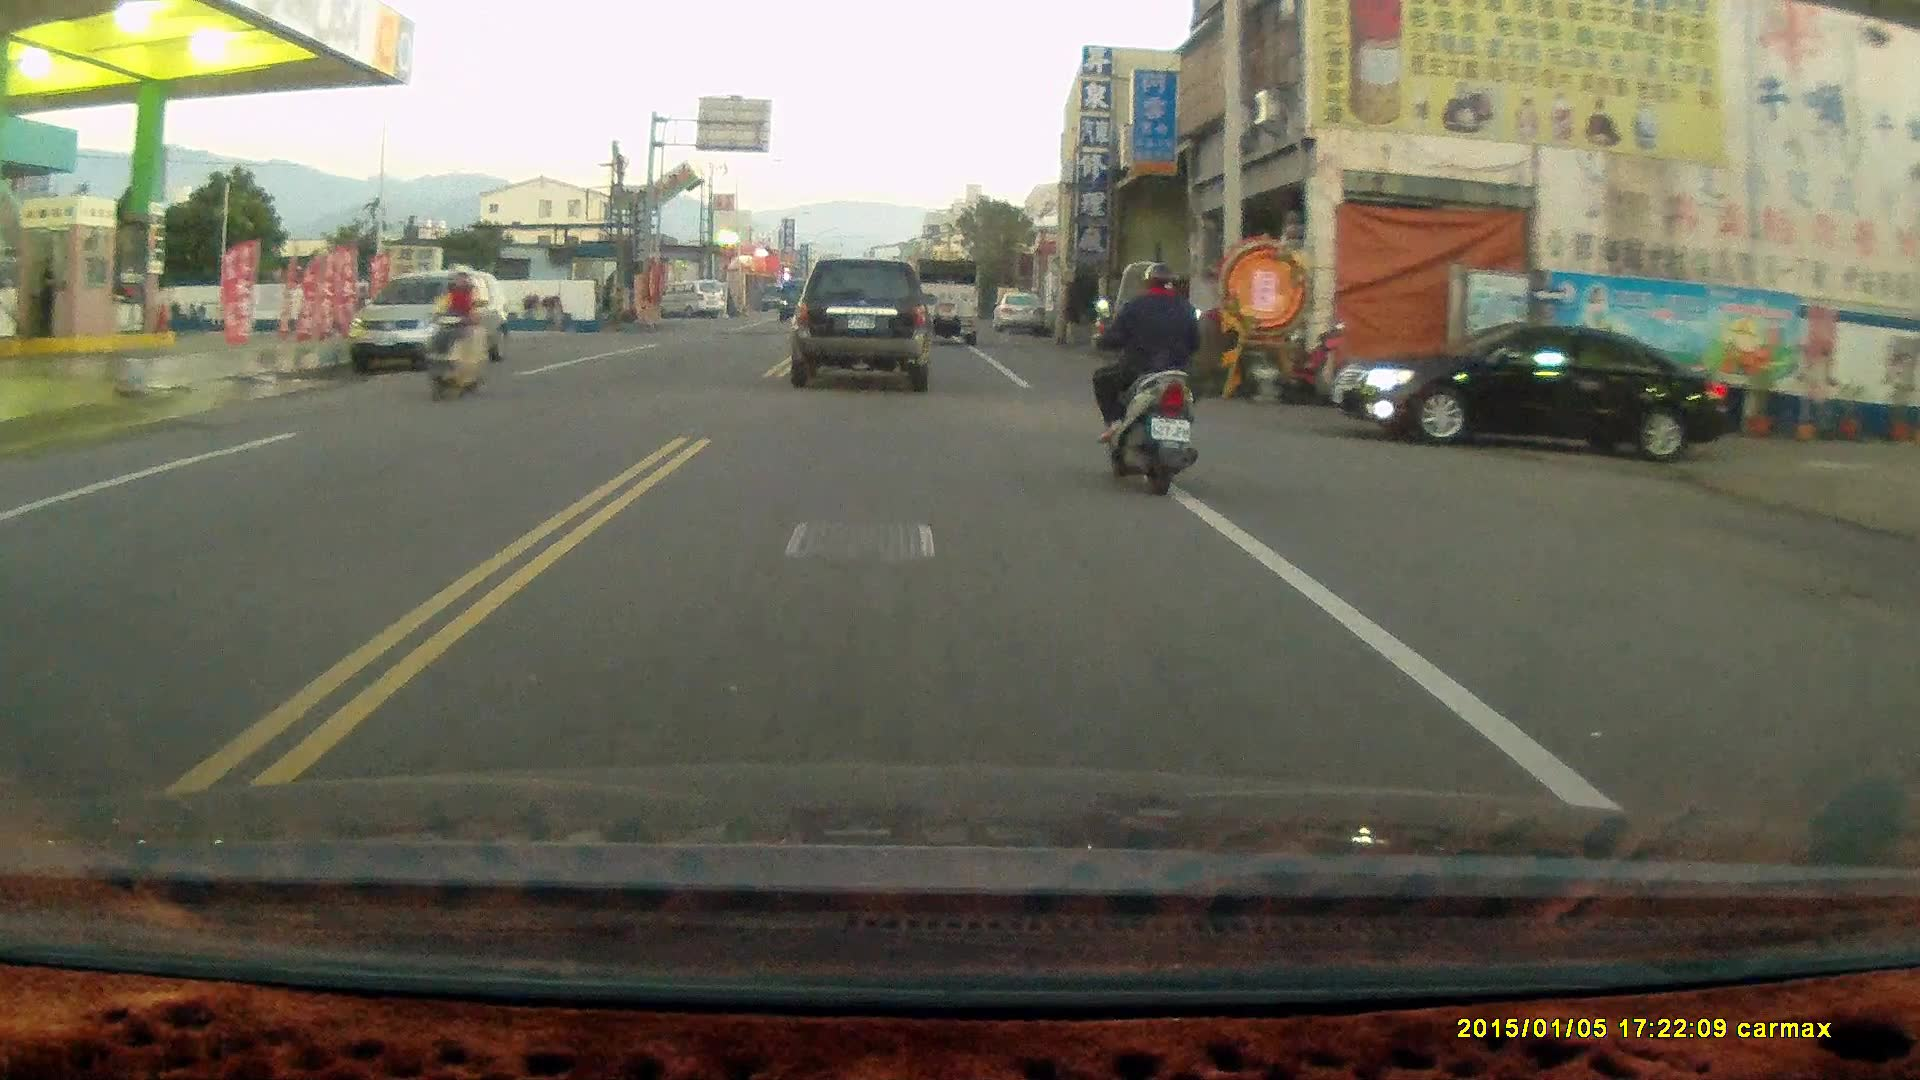rider: (1088, 259, 1198, 497), (423, 264, 489, 398)
vehicle: (1335, 326, 1743, 466), (790, 254, 938, 391), (343, 268, 511, 377), (898, 256, 980, 347), (992, 292, 1046, 333)
